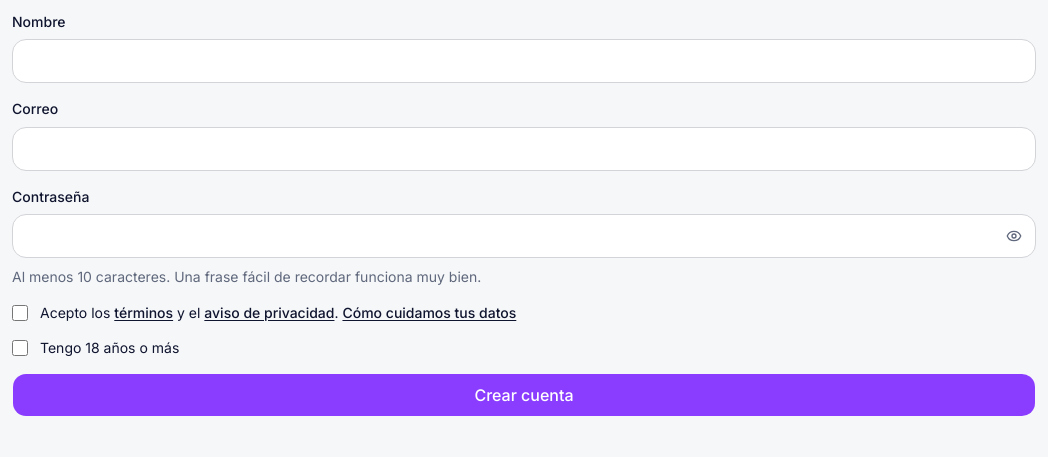
Test: SignUpForm › envía la casilla marcada y muestra el error del servidor si falta
Click the checkbox labelled "Tengo 18 años o más": {"x": 20, "y": 348} [12,340,28,356]
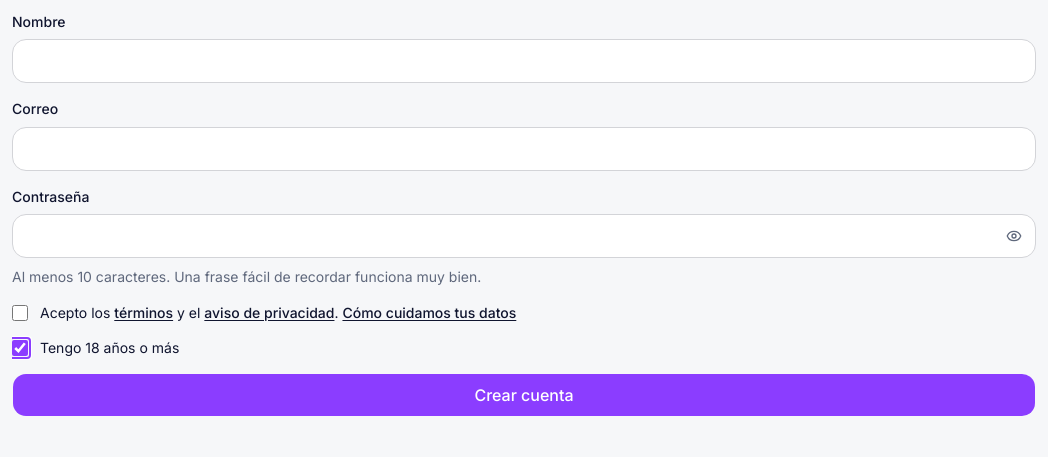
Click the button "Crear cuenta": {"x": 524, "y": 395} [12,373,1036,417]
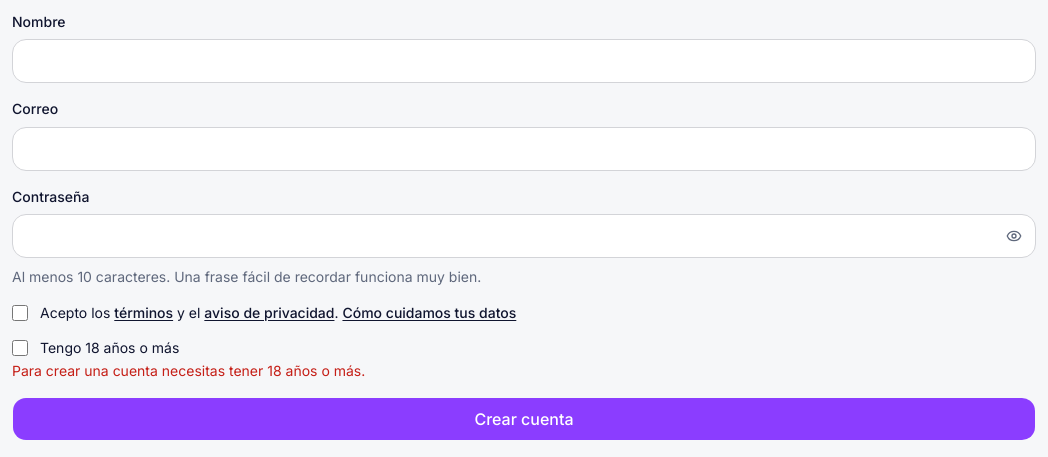
Now the message reads "Para crear una cuenta necesitas tener 18 años o más.", box [12,362,365,379]
